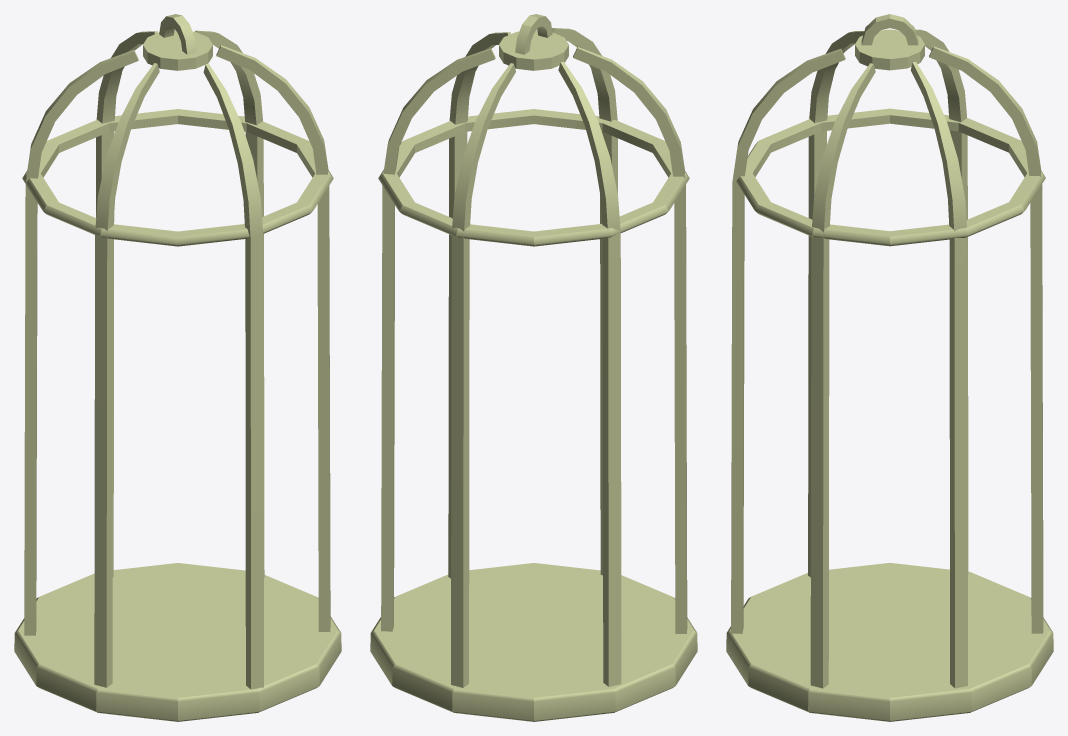
File: Cage_02A_Lod0.fbx
3 views of the same model, side by side, from view 1: azimuth 30°, elevation 25°; view 2: azimuth 150°, elevation 25°; view 3: azimuth 270°, elevation 25° (orthographic).
Visible parts, largest first — view 1: Cage_02A_Lod0; view 2: Cage_02A_Lod0; view 3: Cage_02A_Lod0.
Part boxes in pixels (x1,y1,x2,y2): Cage_02A_Lod0: [14, 14, 341, 721]; Cage_02A_Lod0: [370, 14, 697, 721]; Cage_02A_Lod0: [726, 14, 1053, 721].
Size of the model in its own units: 61.95 by 133 by 61.95.
